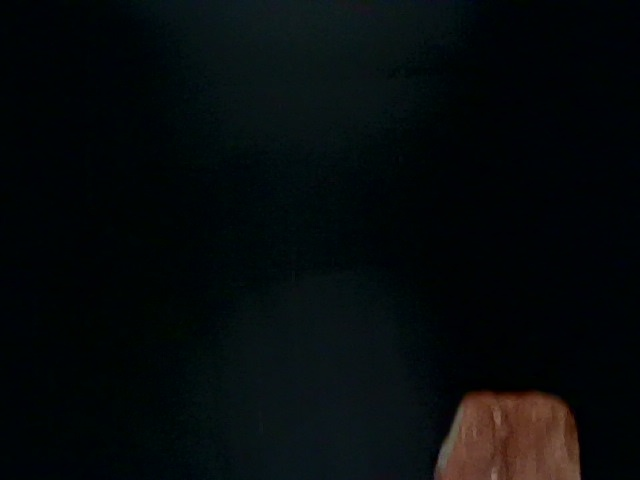KHSLJ: (138, 425, 278, 480)
